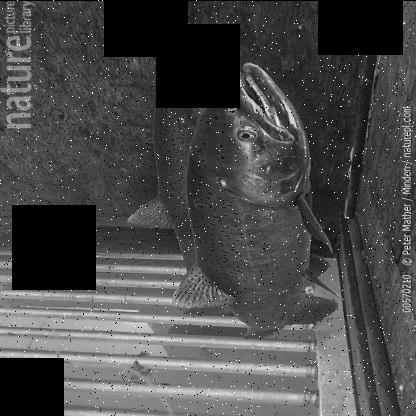fish: (169, 60, 348, 344), (122, 23, 280, 340)
